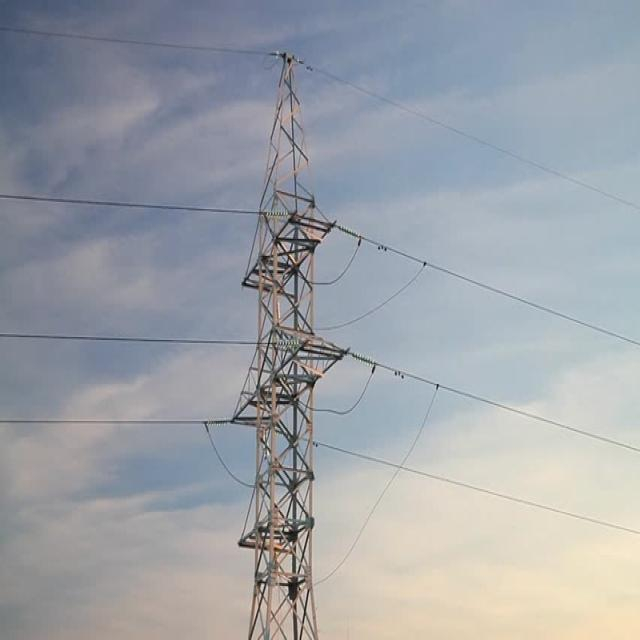non-critical vegetation: (224, 64, 360, 636)
